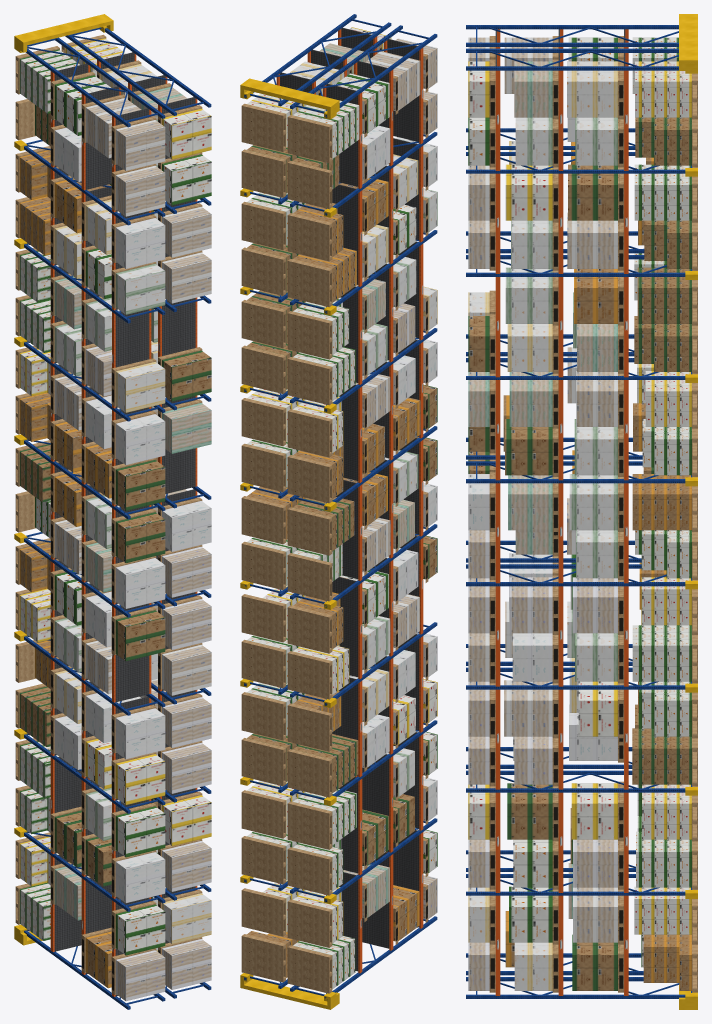
Rendered from racks_w5_n.gltf.
3 views of the same model, side by side, from view 1: azimuth 30°, elevation 25°; view 2: azimuth 150°, elevation 25°; view 3: azimuth 270°, elevation 25° (orthographic). The views are drawn at different scales.
Parts seen in each view (by area): view 1: racks_w5_n; view 2: racks_w5_n; view 3: racks_w5_n.
Part boxes in pixels (bbox=[...]): racks_w5_n: bbox=[14, 14, 211, 1009]; racks_w5_n: bbox=[240, 14, 437, 1009]; racks_w5_n: bbox=[466, 14, 697, 1009].
Bounding box in the file's own units: 2.6 × 24.86 × 5.5.
18 materials, 18 textured.
